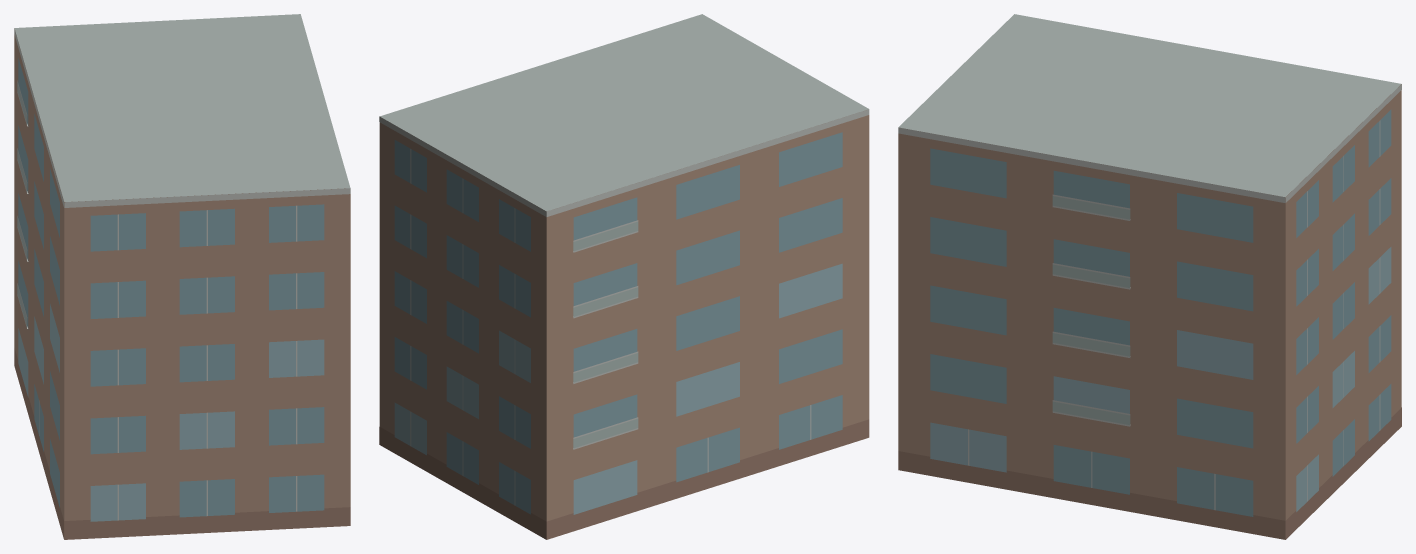
The model's file is survey-upis-32778756.glb.
The picture shows the model from 3 angles, left to right: view 1: azimuth 30°, elevation 25°; view 2: azimuth 150°, elevation 25°; view 3: azimuth 270°, elevation 25°; orthographic projection. The views are drawn at different scales.
Parts seen in each view (by area): view 1: survey-upis-32778756.tmp; view 2: survey-upis-32778756.tmp; view 3: survey-upis-32778756.tmp.
Part boxes in pixels (bbox=[...]): survey-upis-32778756.tmp: bbox=[14, 14, 350, 539]; survey-upis-32778756.tmp: bbox=[379, 14, 869, 539]; survey-upis-32778756.tmp: bbox=[898, 14, 1401, 539].
Size of the model in its own units: 15.95 by 13.9 by 18.52.
